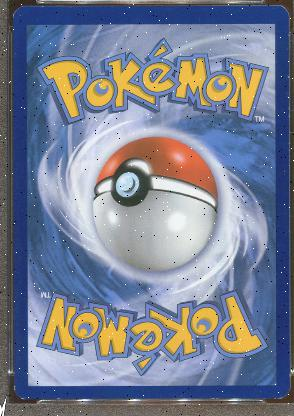Card: (10, 2, 292, 402)
Corner Wear: (12, 384, 27, 400), (278, 4, 289, 14), (10, 6, 18, 18), (270, 393, 285, 399)
Edge Wear: (286, 74, 288, 120), (55, 397, 64, 399), (208, 398, 218, 399), (287, 33, 288, 37)
